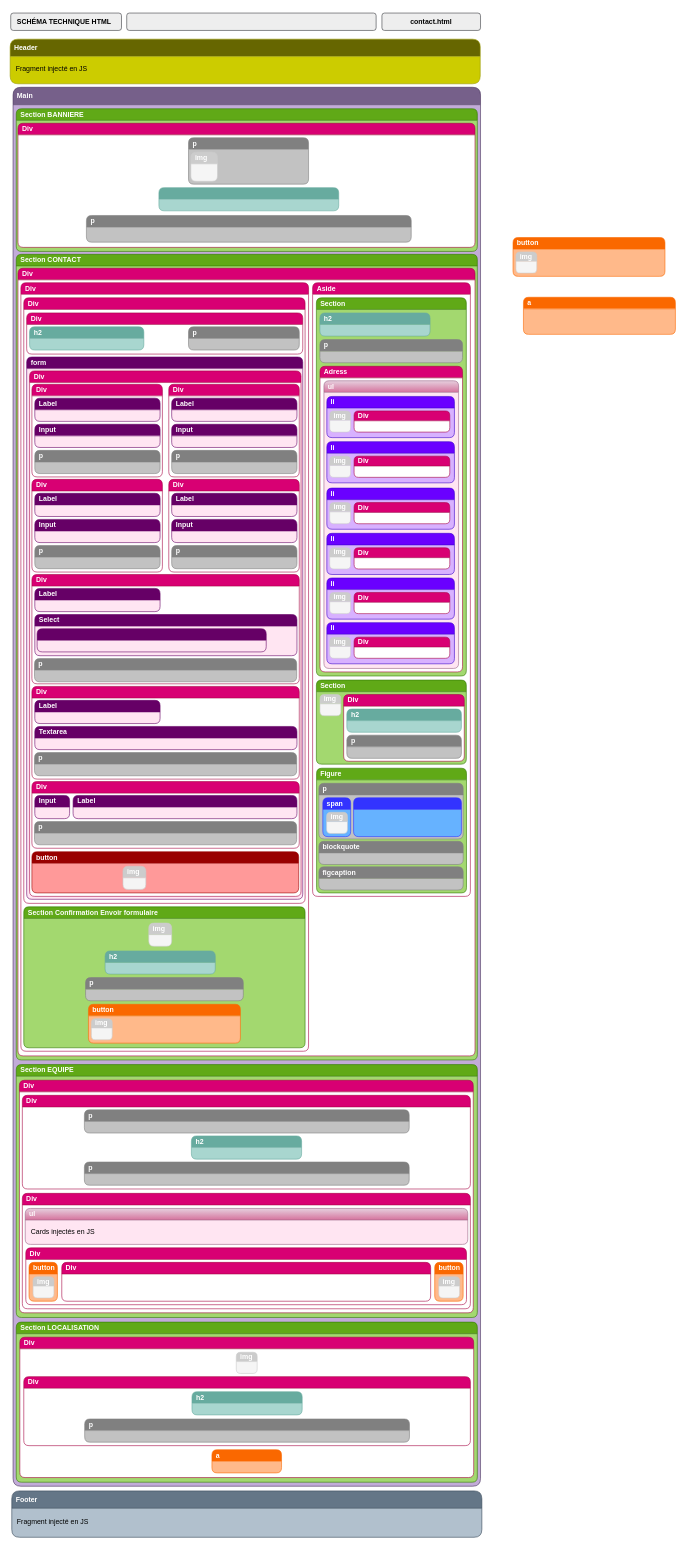
The diagram is 686 pixels wide and 1547 high, and some of its shapes have lost their labels. The centre of each missing label's shape, as x and y in pixels:
"h1" belongs at (x=248, y=199).
"Option" belongs at (x=151, y=640).
"PROSPACE" belongs at (x=251, y=21).
"strong" belongs at (x=407, y=817).
